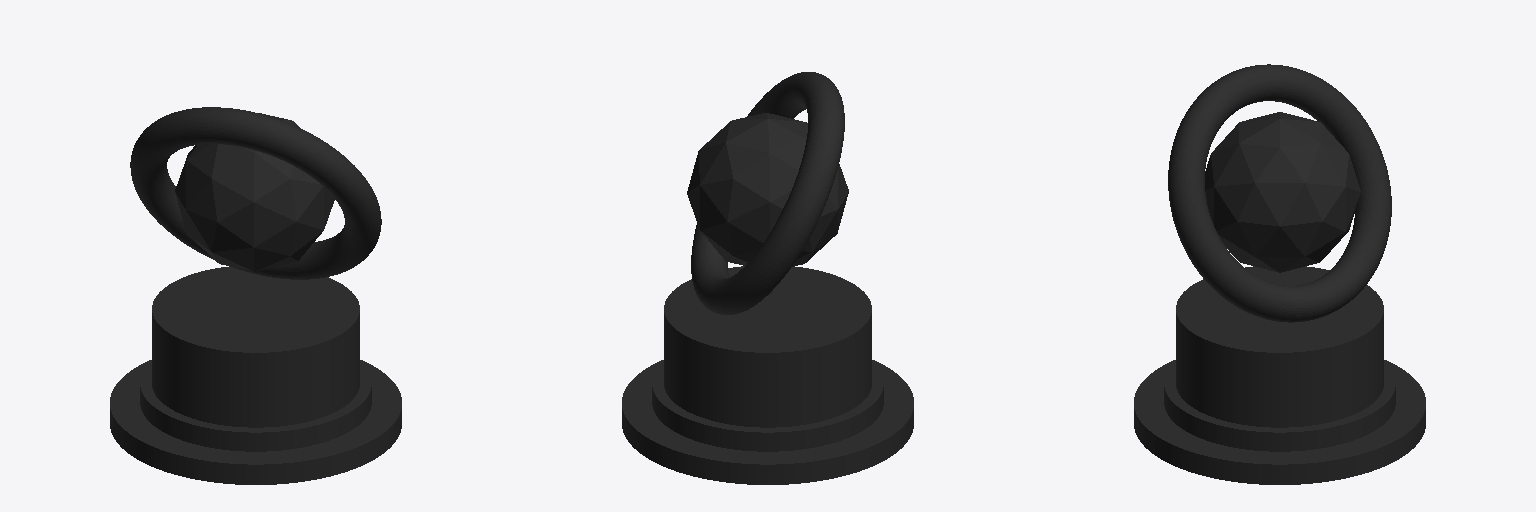
Rendered from cup.obj.
The picture shows the model from 3 angles: view 1: azimuth 30°, elevation 25°; view 2: azimuth 150°, elevation 25°; view 3: azimuth 270°, elevation 25°; orthographic projection.
Visible parts, largest first — view 1: Cylindre.2, Tore, Sphère, Cylindre, Cylindre.1; view 2: Cylindre.2, Sphère, Tore, Cylindre, Cylindre.1; view 3: Cylindre.2, Tore, Sphère, Cylindre, Cylindre.1.
Boxes of the visible parts, box(x1,y1,x2,y2) form: Cylindre.2: box(152, 266, 359, 427); Tore: box(130, 107, 381, 279); Sphère: box(175, 113, 334, 271); Cylindre: box(110, 360, 401, 484); Cylindre.1: box(140, 363, 371, 451); Cylindre.2: box(664, 266, 871, 427); Sphère: box(687, 113, 848, 266); Tore: box(691, 72, 844, 314); Cylindre: box(622, 360, 913, 484); Cylindre.1: box(652, 363, 883, 451); Cylindre.2: box(1176, 266, 1383, 427); Tore: box(1168, 64, 1391, 322); Sphère: box(1205, 112, 1360, 272); Cylindre: box(1134, 360, 1425, 484); Cylindre.1: box(1164, 363, 1395, 451).
Size of the model in its own units: 100 by 126 by 99.99.